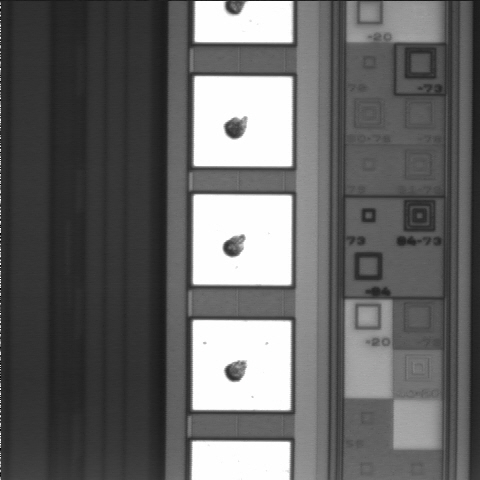pad: (193, 194, 292, 285), (194, 76, 292, 166), (193, 320, 291, 410)
